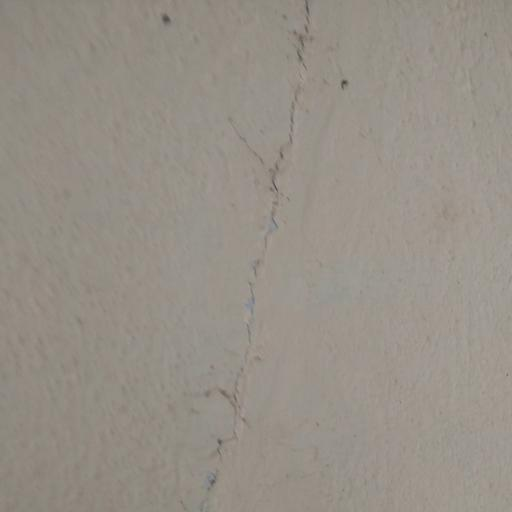minor_crack: (197, 0, 312, 512)
